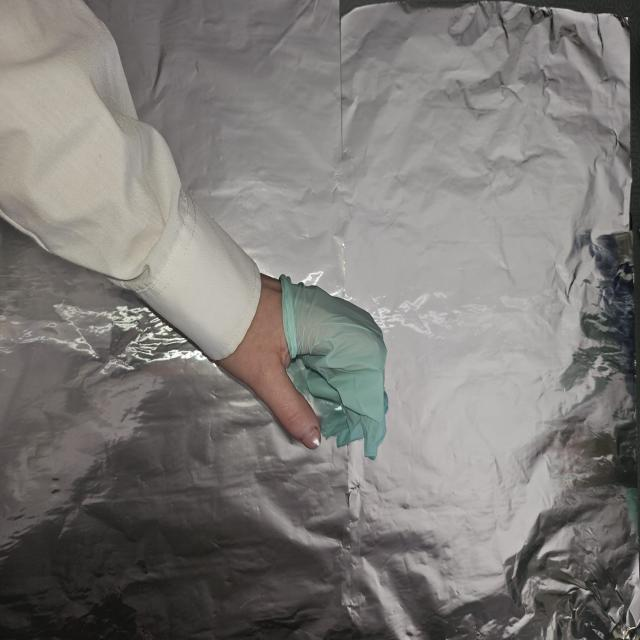glove_partial: (219, 272, 389, 460)
